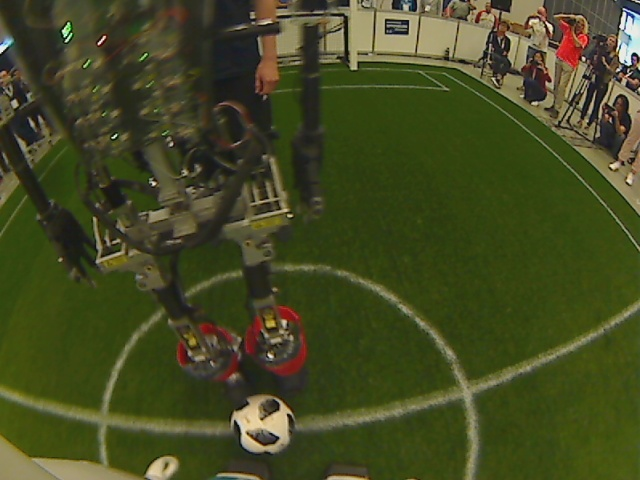ball: (227, 391, 301, 460)
